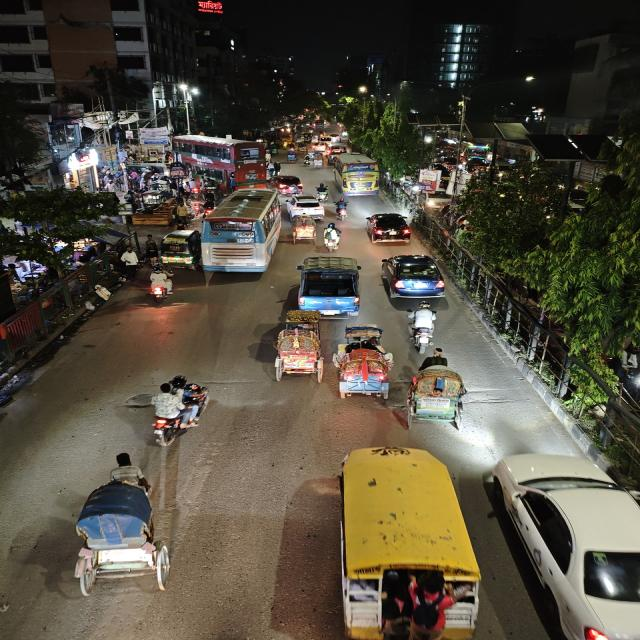bus: (197, 190, 286, 278), (181, 142, 271, 179), (329, 153, 382, 196)
car: (483, 451, 639, 640), (294, 254, 365, 314), (378, 252, 450, 301), (362, 211, 414, 246), (292, 197, 325, 217), (272, 174, 304, 193), (328, 144, 348, 154)
cng: (158, 229, 200, 271)
human_hauler: (318, 446, 489, 640)
motorcycle: (134, 371, 213, 451), (402, 301, 444, 351), (143, 268, 176, 306), (321, 222, 342, 252), (333, 198, 350, 220), (314, 182, 331, 203)
pedestrian: (119, 248, 141, 282), (171, 202, 193, 228)
rickshaw: (63, 460, 178, 600), (405, 349, 476, 429), (335, 325, 394, 407), (263, 311, 327, 385), (159, 230, 198, 270), (289, 213, 318, 244)
